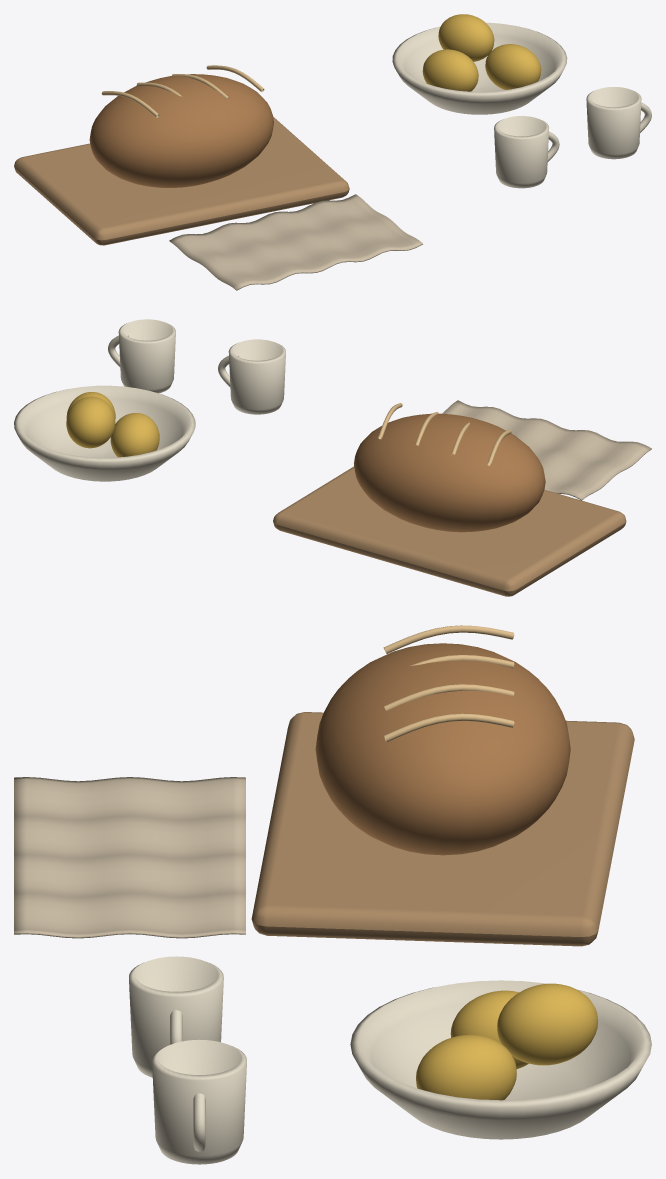
Rendered from kitchen-preparation.glb.
3 views of the same model, one above another, from view 1: azimuth 30°, elevation 25°; view 2: azimuth 150°, elevation 25°; view 3: azimuth 270°, elevation 25° (orthographic). The views are drawn at different scales.
Visible parts, largest first — view 1: Mood oak board, Mood bread crust, Mood stoneware chalk, Mood linen oat, Mood lemon peel, Mood bread scoring; view 2: Mood oak board, Mood stoneware chalk, Mood bread crust, Mood linen oat, Mood lemon peel, Mood bread scoring; view 3: Mood oak board, Mood stoneware chalk, Mood bread crust, Mood linen oat, Mood lemon peel, Mood bread scoring.
Part boxes in pixels (x1,y1,x2,y2): Mood oak board: (14,117,349,245); Mood bread crust: (89,74,273,187); Mood stoneware chalk: (392,22,651,188); Mood linen oat: (169,194,422,290); Mood lemon peel: (422,14,541,91); Mood bread scoring: (101,65,264,117); Mood oak board: (273,466,626,596); Mood stoneware chalk: (14,319,285,481); Mood bread crust: (354,413,545,532); Mood linen oat: (442,400,651,500); Mood lemon peel: (66,392,159,457); Mood bread scoring: (378,403,511,465); Mood oak board: (251,712,634,946); Mood stoneware chalk: (129,956,651,1164); Mood bread crust: (315,643,570,855); Mood linen oat: (14,777,245,938); Mood lemon peel: (416,983,597,1100); Mood bread scoring: (383,625,514,742).
Bounding box in the file's own units: 0.9047 × 0.1681 × 0.55.
